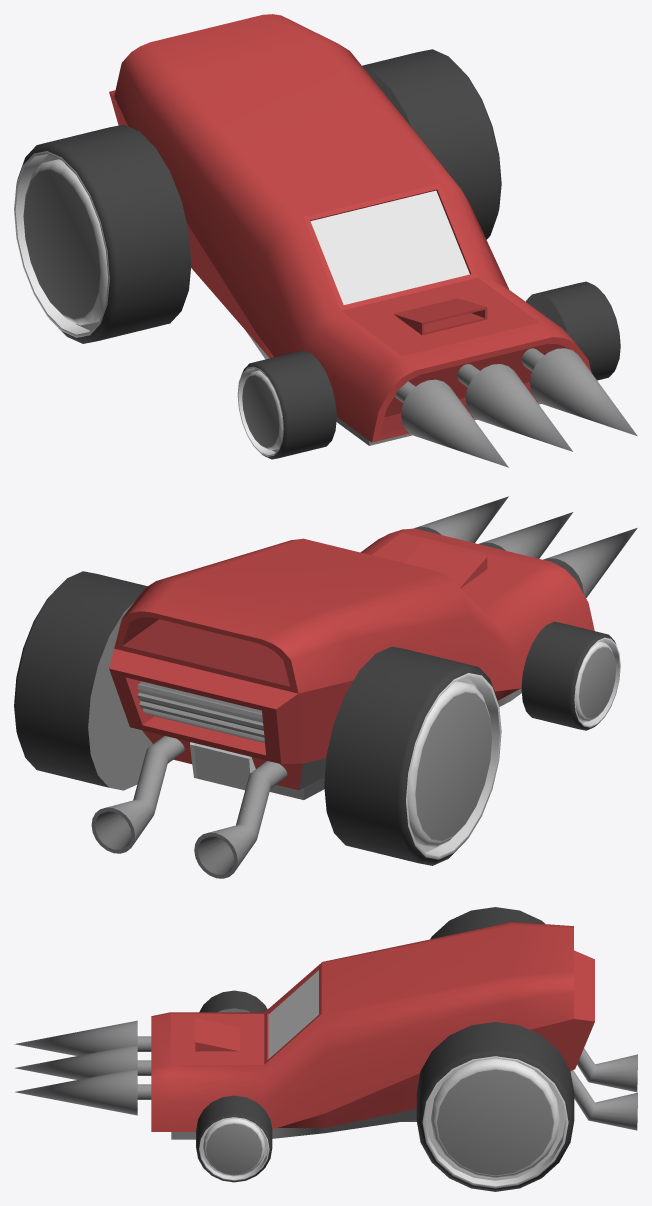
The model's file is madcar.fbx.
3 renders of one model, top to bottom at view 1: azimuth 30°, elevation 25°; view 2: azimuth 150°, elevation 25°; view 3: azimuth 270°, elevation 25°, orthographic. The views are drawn at different scales.
Parts seen in each view (by area): view 1: body, wheel_br, wheel_bl, wheel_fr, wheel_fl, toge_C, toge_L, toge_R; view 2: body, wheel_br, wheel_bl, wheel_fr, toge_R, toge_L, toge_C; view 3: body, wheel_bl, wheel_fl, toge_L, toge_C, toge_R, wheel_br, wheel_fr.
Part boxes in pixels (x1,y1,x2,y2): body: [109, 14, 591, 445]; wheel_br: [14, 124, 191, 343]; wheel_bl: [362, 49, 501, 239]; wheel_fr: [237, 350, 336, 459]; wheel_fl: [526, 281, 620, 380]; toge_C: [457, 364, 572, 451]; toge_L: [522, 348, 637, 436]; toge_R: [394, 379, 508, 467]; body: [91, 528, 594, 878]; wheel_br: [324, 646, 501, 865]; wheel_bl: [14, 571, 152, 790]; wheel_fr: [521, 621, 620, 730]; toge_R: [543, 528, 637, 597]; toge_L: [413, 496, 508, 542]; toge_C: [479, 512, 572, 558]; body: [151, 921, 637, 1139]; wheel_bl: [416, 1022, 574, 1191]; wheel_fl: [196, 1095, 272, 1182]; toge_L: [15, 1068, 151, 1115]; toge_C: [14, 1044, 151, 1079]; toge_R: [14, 1020, 151, 1055]; wheel_br: [430, 907, 544, 939]; wheel_fr: [199, 990, 267, 1012].
Bounding box in the file's own units: 3.52 × 1.92 × 6.36.
Materials: 1 (1 with a texture image).
